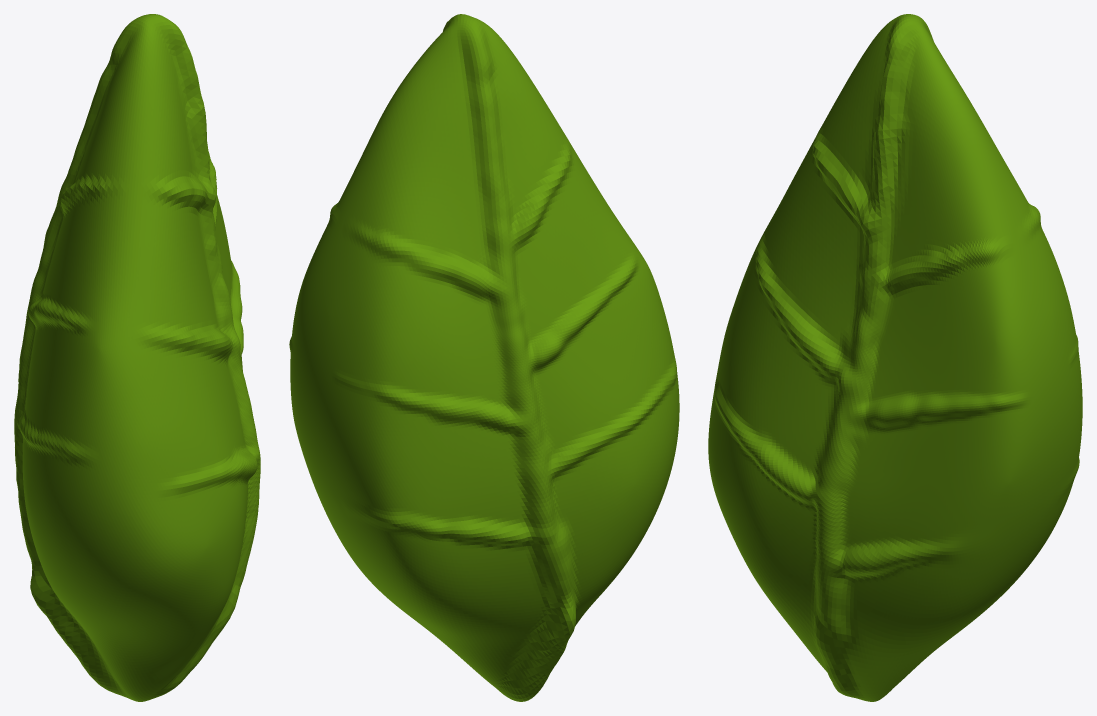
The model's file is leaf.fbx.
3 views of the same model, side by side, from view 1: azimuth 30°, elevation 25°; view 2: azimuth 150°, elevation 25°; view 3: azimuth 270°, elevation 25° (orthographic). The views are drawn at different scales.
Visible parts, largest first — view 1: Icosphere; view 2: Icosphere; view 3: Icosphere.
Part boxes in pixels (left/top/right/bottom): Icosphere: left=14, top=14, right=260, bottom=701; Icosphere: left=289, top=14, right=679, bottom=701; Icosphere: left=708, top=14, right=1082, bottom=701.
Bounding box in the file's own units: 132 × 310 × 150.
